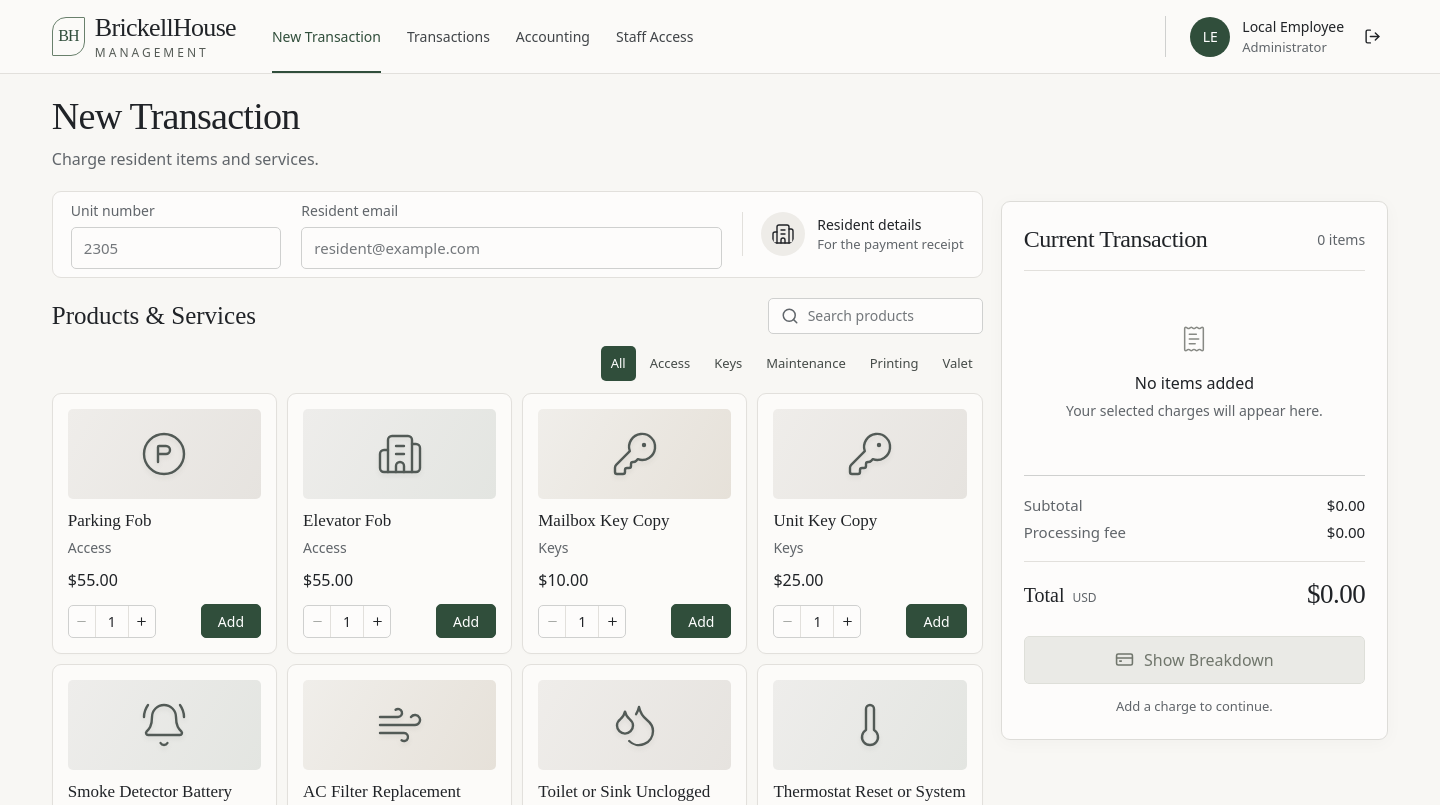
Test: redesigned payment controls › stages typed product quantities until Add and preserves the cart's 1–99 limit
Replace the text in the number field named "Quantity to add for Parking Fob" with "9" at (112, 621), box x1=95 y1=606 x2=129 y2=637
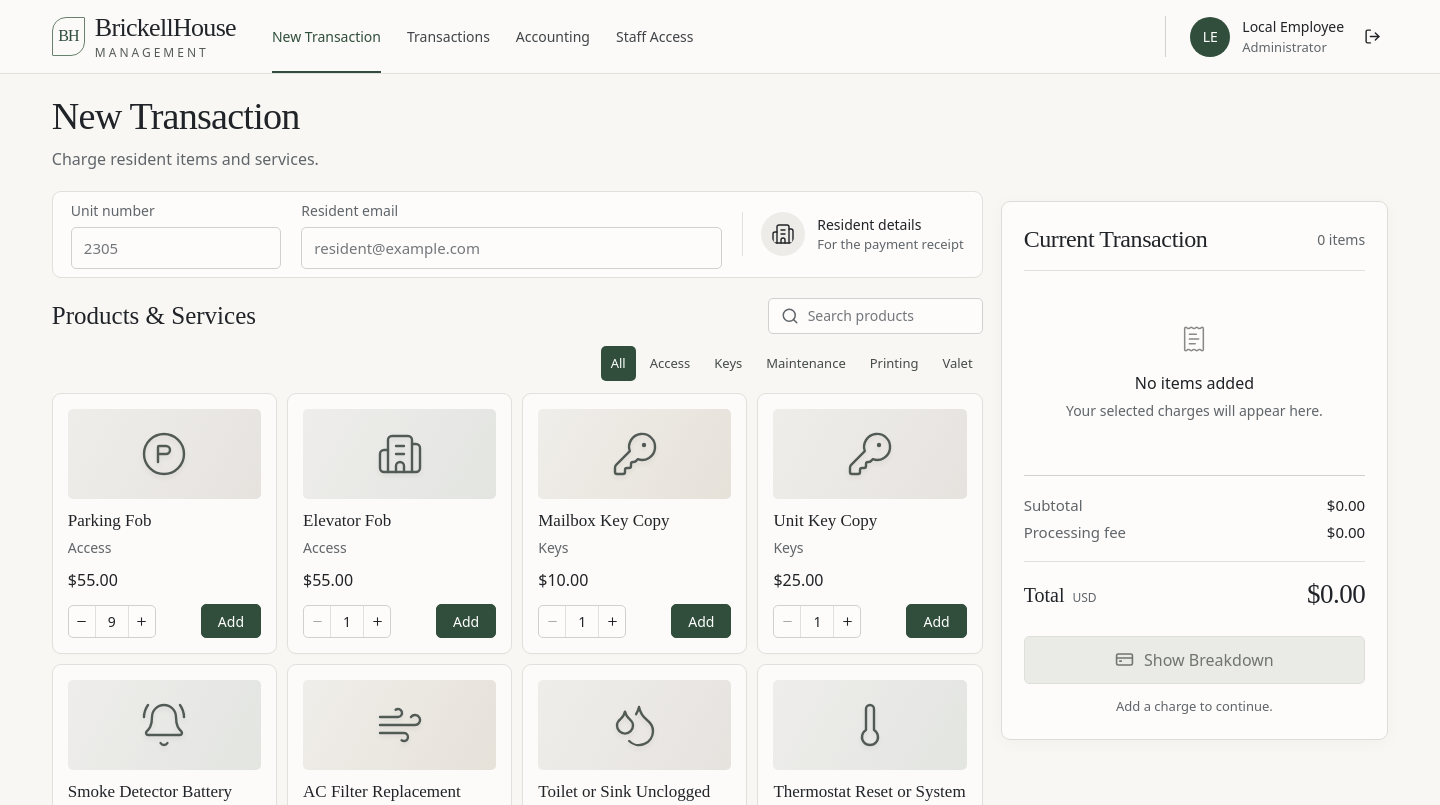
Click the button with aria-label "Add Parking Fob" at (231, 621), box x1=201 y1=604 x2=261 y2=638
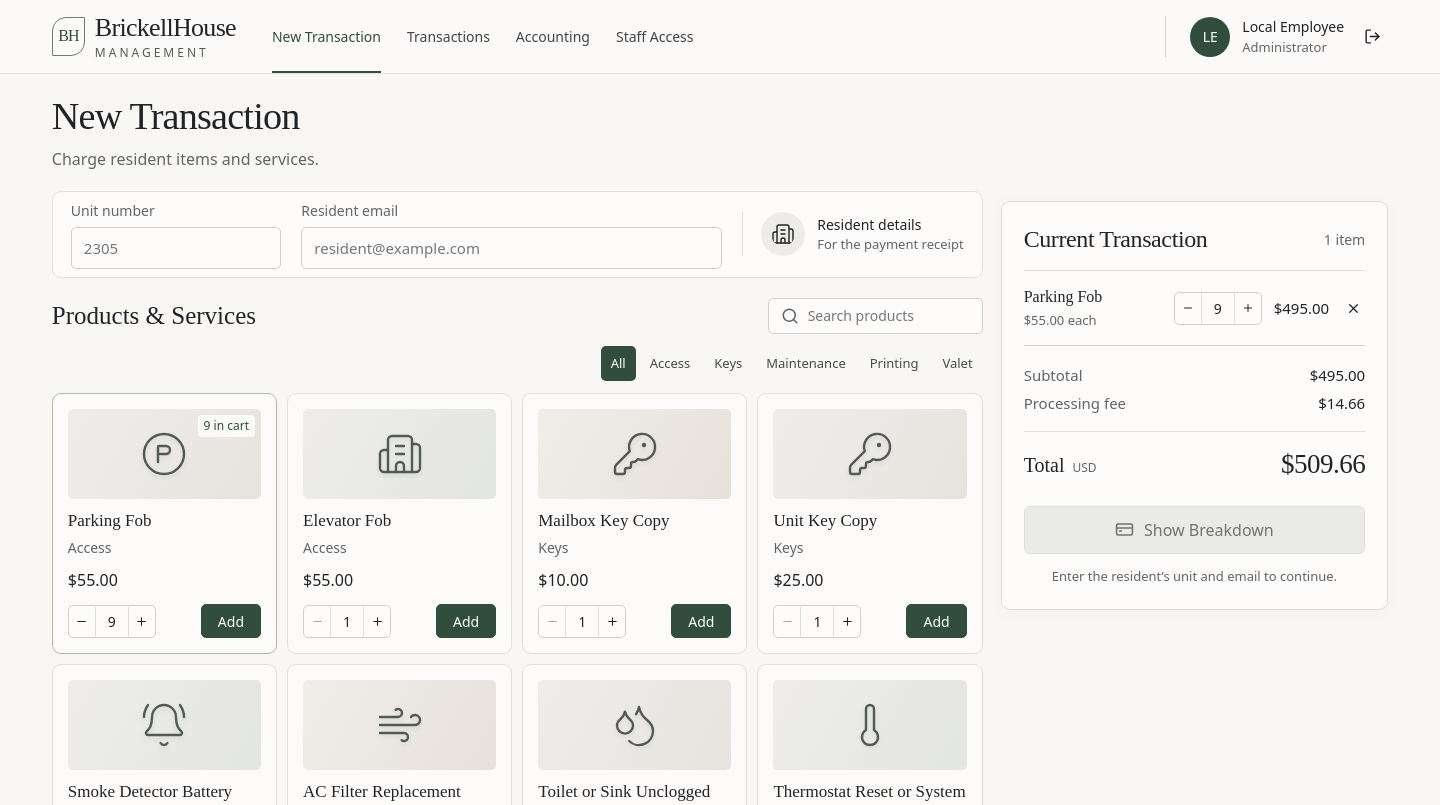
Result: the number field named "Parking Fob quantity" holds "9" at x1=1201 y1=292 x2=1235 y2=324
Replace the text in the number field named "Quantity to add for Parking Fob" with "0" at (112, 621), box x1=95 y1=606 x2=129 y2=637
Leave the number field named "Quantity to add for Parking Fob", box x1=95 y1=606 x2=129 y2=637
Replace the text in the number field named "Quantity to add for Parking Fob" with "100" at (112, 621), box x1=95 y1=606 x2=129 y2=637
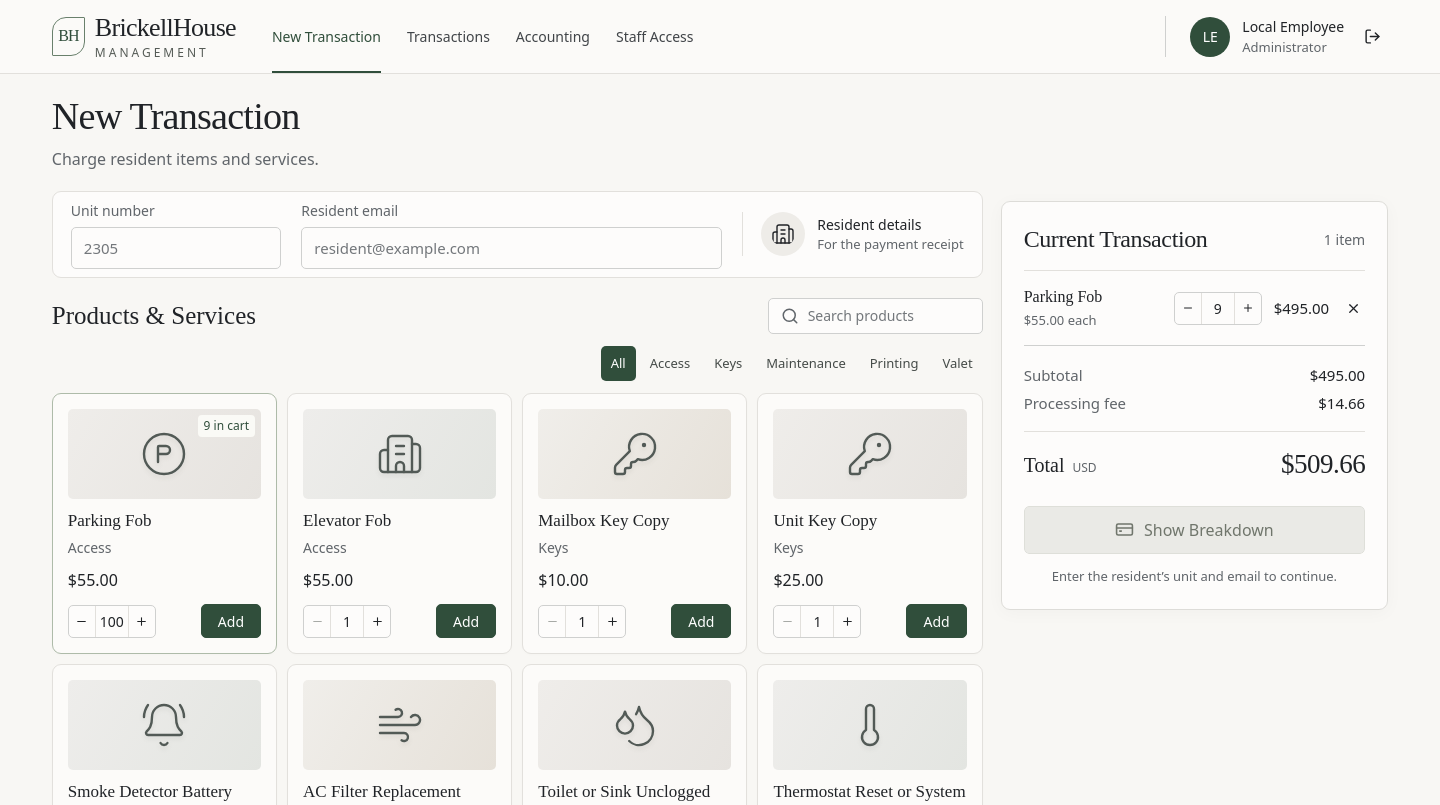
Leave the number field named "Quantity to add for Parking Fob", box x1=95 y1=606 x2=129 y2=637
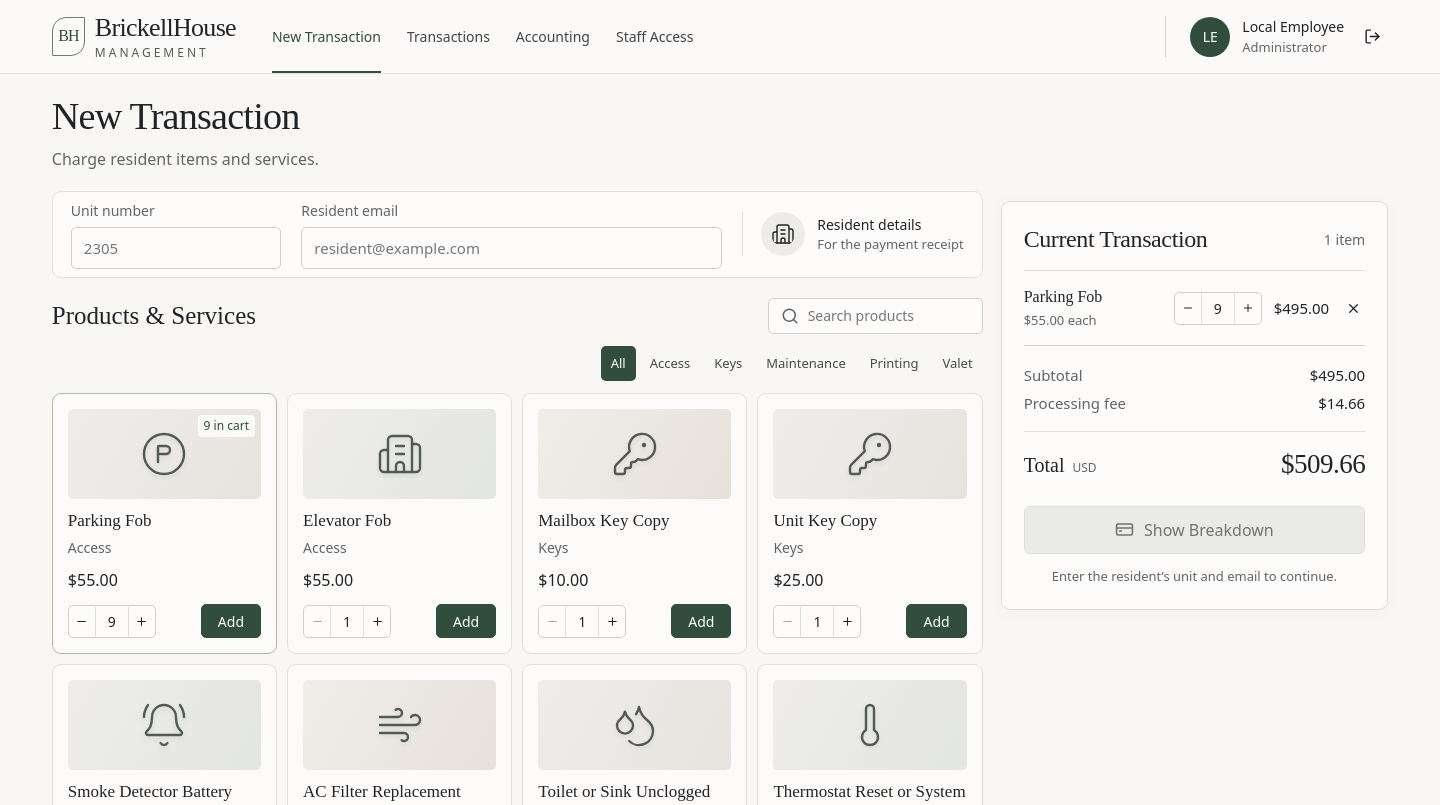
Replace the text in the number field named "Quantity to add for Parking Fob" with "99" at (112, 621), box x1=95 y1=606 x2=129 y2=637
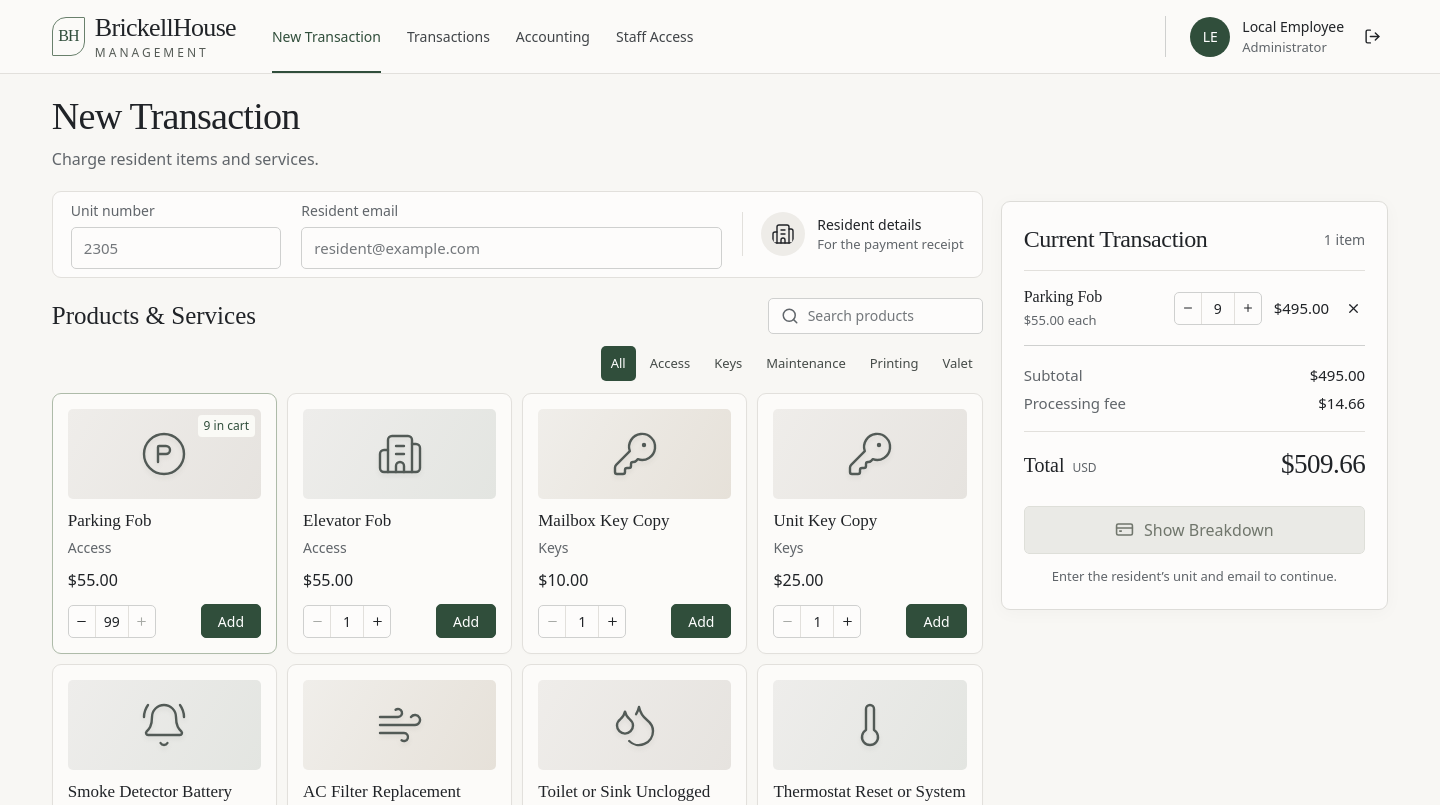
Click the button with aria-label "Add Parking Fob" at (231, 621), box x1=201 y1=604 x2=261 y2=638
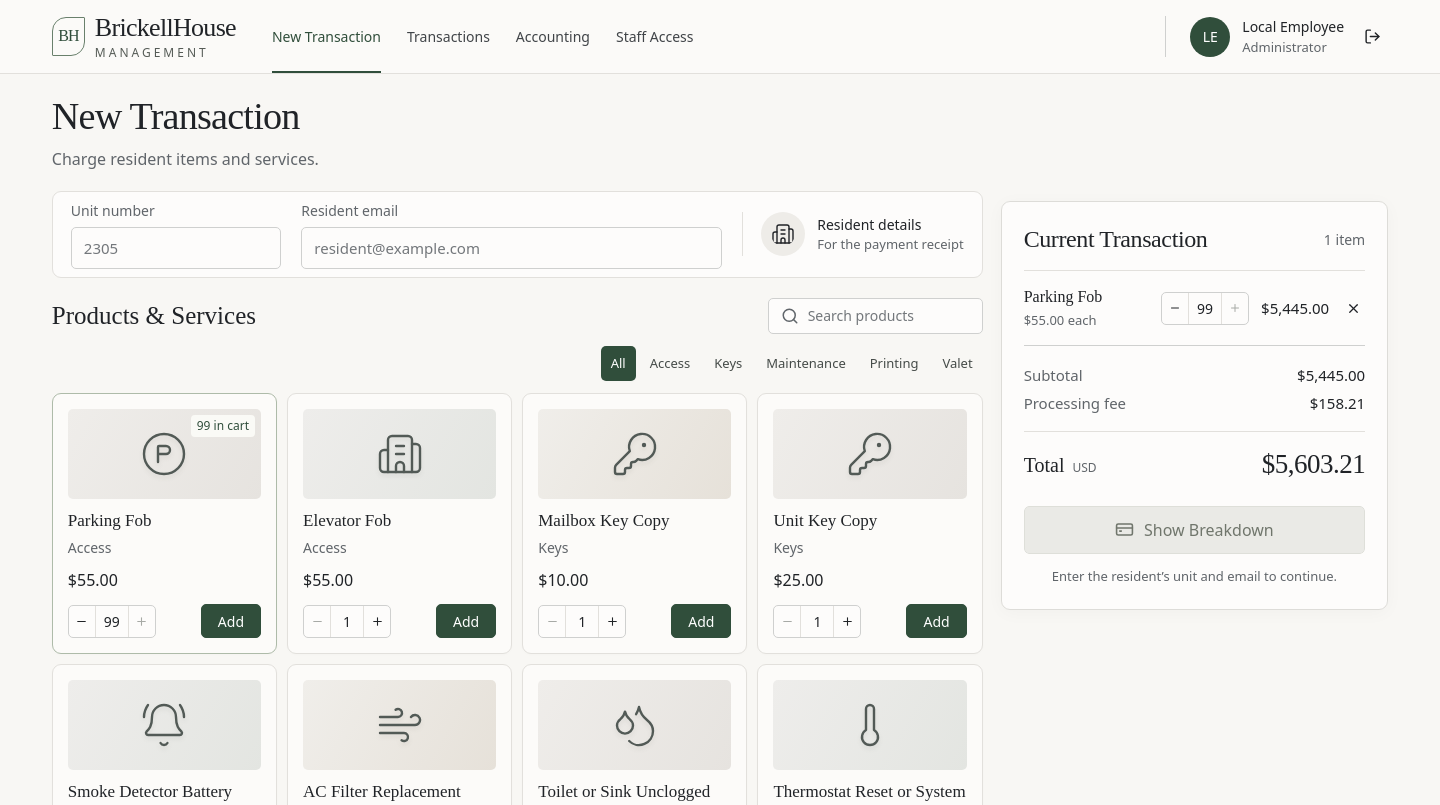
Result: the number field named "Parking Fob quantity" holds "99" at x1=1188 y1=292 x2=1222 y2=324
